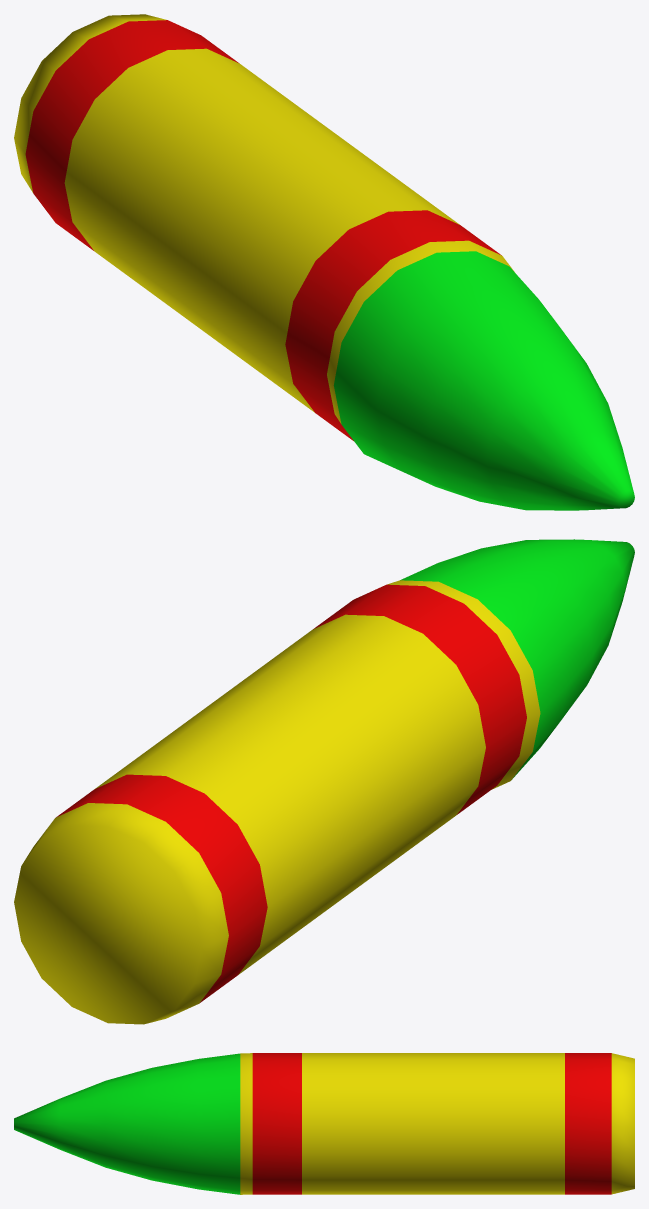
File: armor_piercing_projectile.fbx
The picture shows the model from 3 angles, top to bottom: view 1: azimuth 30°, elevation 25°; view 2: azimuth 150°, elevation 25°; view 3: azimuth 270°, elevation 25°; orthographic projection. The views are drawn at different scales.
Visible parts, largest first — view 1: Cylinder; view 2: Cylinder; view 3: Cylinder.
Part boxes in pixels (x1,y1,x2,y2): Cylinder: (14, 14, 634, 510); Cylinder: (14, 539, 634, 1024); Cylinder: (14, 1053, 634, 1194).
Size of the model in its own units: 287 by 286 by 1240.
